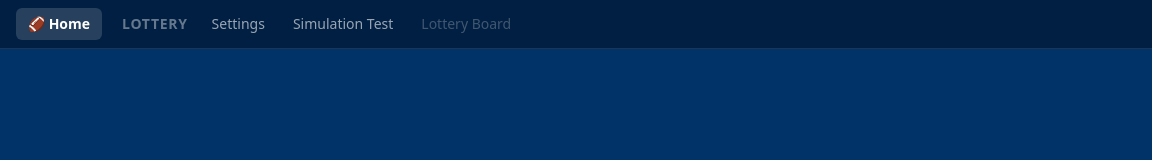
NavBar › settings and simulation unlock with a league; board needs a result
Check: the button "Lottery Board" is disabled, box [409,8,523,40]
Click the button "Simulation Test": (343, 24) [281,8,405,40]
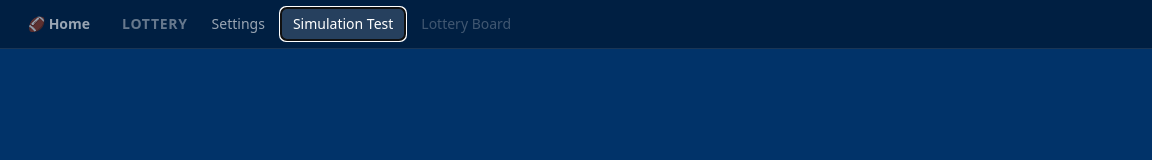
Click the button "Settings": (238, 24) [200,8,277,40]
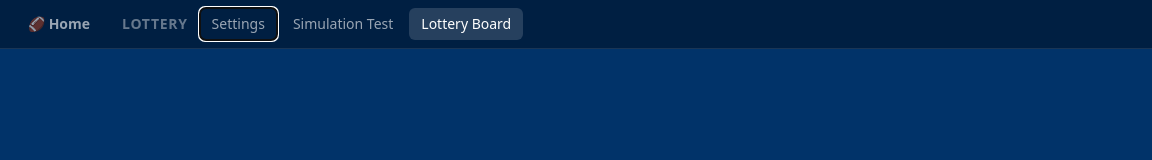
Check: the button "Lottery Board" is enabled, box [409,8,523,40]
